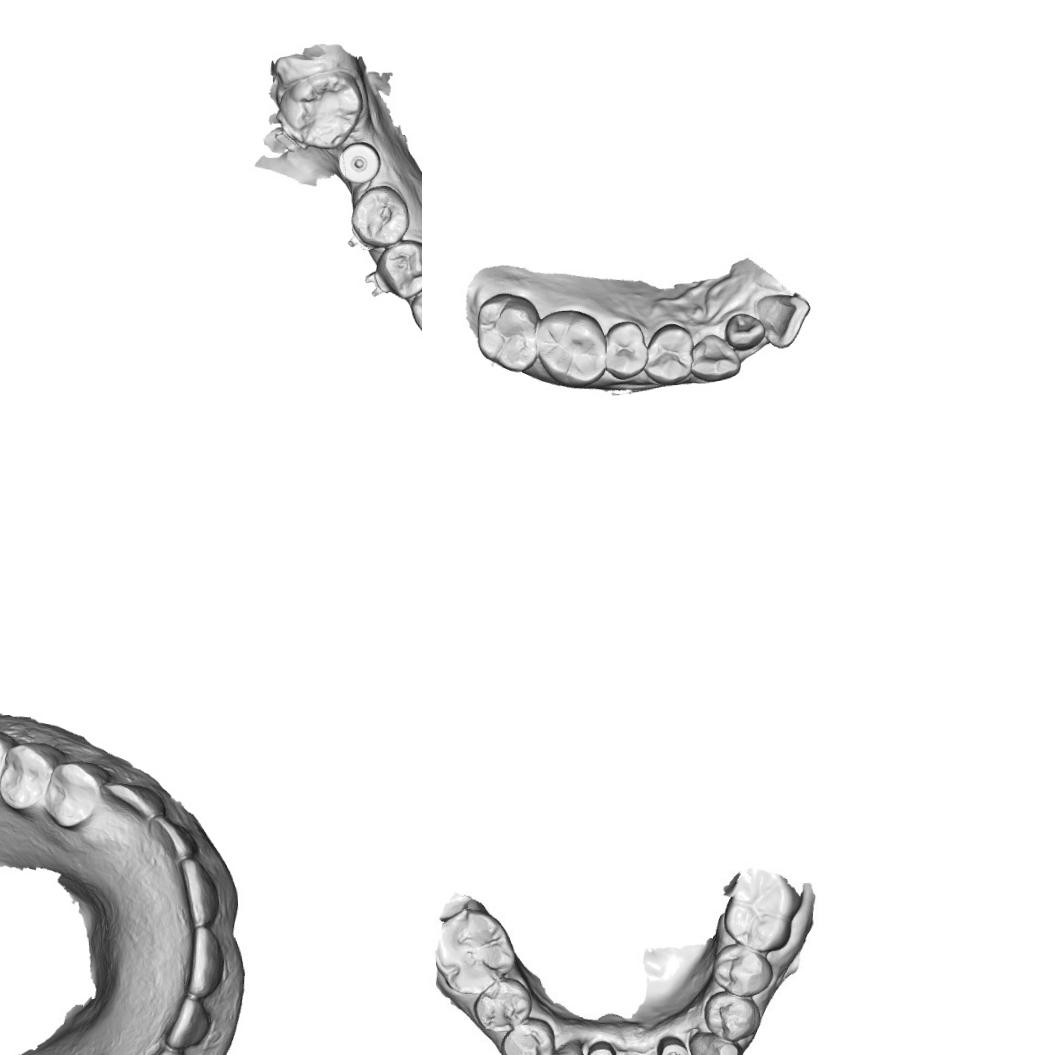canine: (98, 767, 163, 828), (689, 331, 742, 384), (691, 1029, 745, 1055), (121, 1039, 189, 1055), (407, 282, 422, 343)
implant: (334, 142, 380, 182), (659, 1035, 687, 1055), (587, 1041, 615, 1055)
incisor: (179, 925, 229, 999), (753, 291, 813, 350), (176, 856, 219, 928), (164, 994, 214, 1049), (149, 810, 194, 863), (722, 310, 766, 351)
molar: (432, 908, 514, 998), (277, 68, 364, 150), (722, 864, 798, 955), (533, 306, 610, 390), (471, 290, 543, 374)
premolar: (347, 184, 413, 247), (44, 758, 102, 828), (711, 940, 778, 998), (0, 738, 54, 809), (472, 976, 534, 1036), (640, 321, 694, 386), (372, 236, 422, 302), (704, 990, 766, 1042), (600, 319, 650, 379), (496, 1019, 551, 1055)
